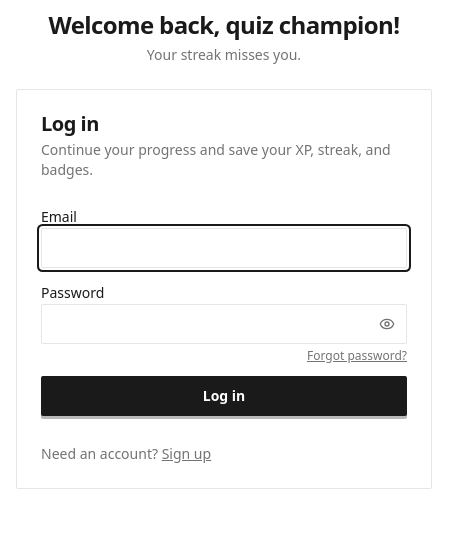
Test: SignInForm › shows a generic error for wrong credentials
Step 1. Type "player@example.com" into the field labelled "Email" → x=224, y=248, box [41,228,407,268]
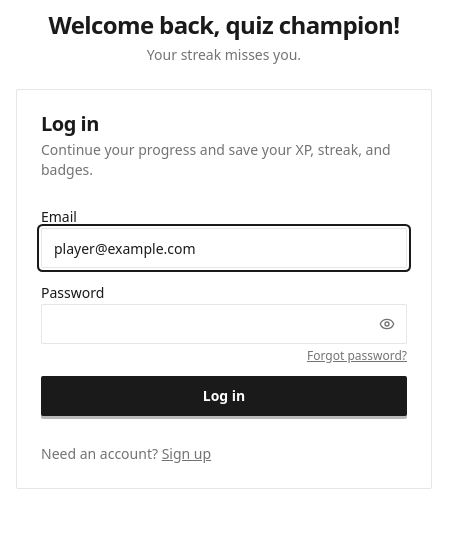
Step 2. Type "Password123!" into the password field labelled "Password" → x=224, y=324, box [41,304,407,344]
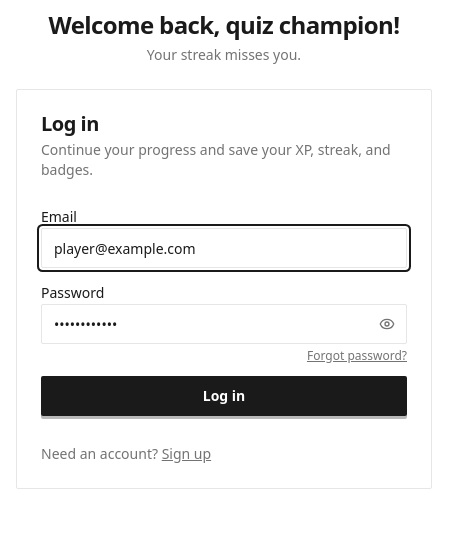
Step 3. Click the button "Log in" → x=224, y=396, box [41,376,407,416]
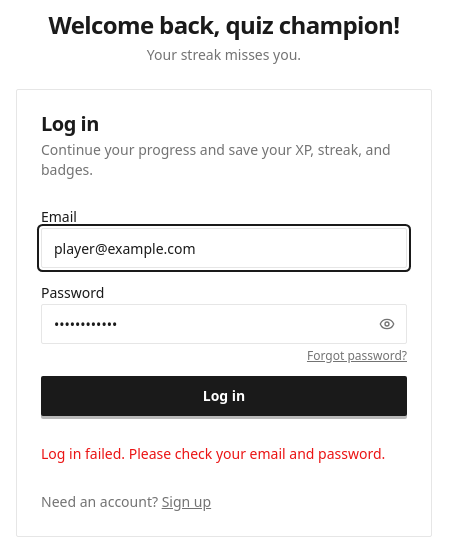
Result: the message reads "Log in failed. Please check your email and password." at [41,444,385,463]
